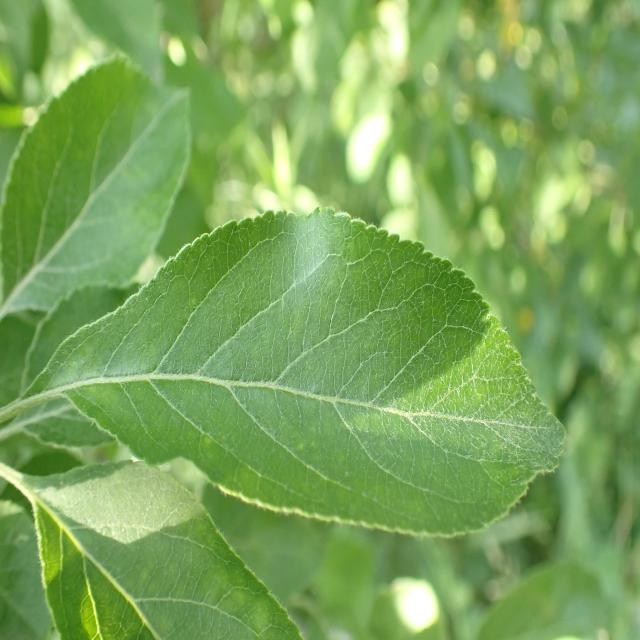healthy: (29, 206, 567, 540), (0, 51, 193, 318), (26, 458, 304, 639)
